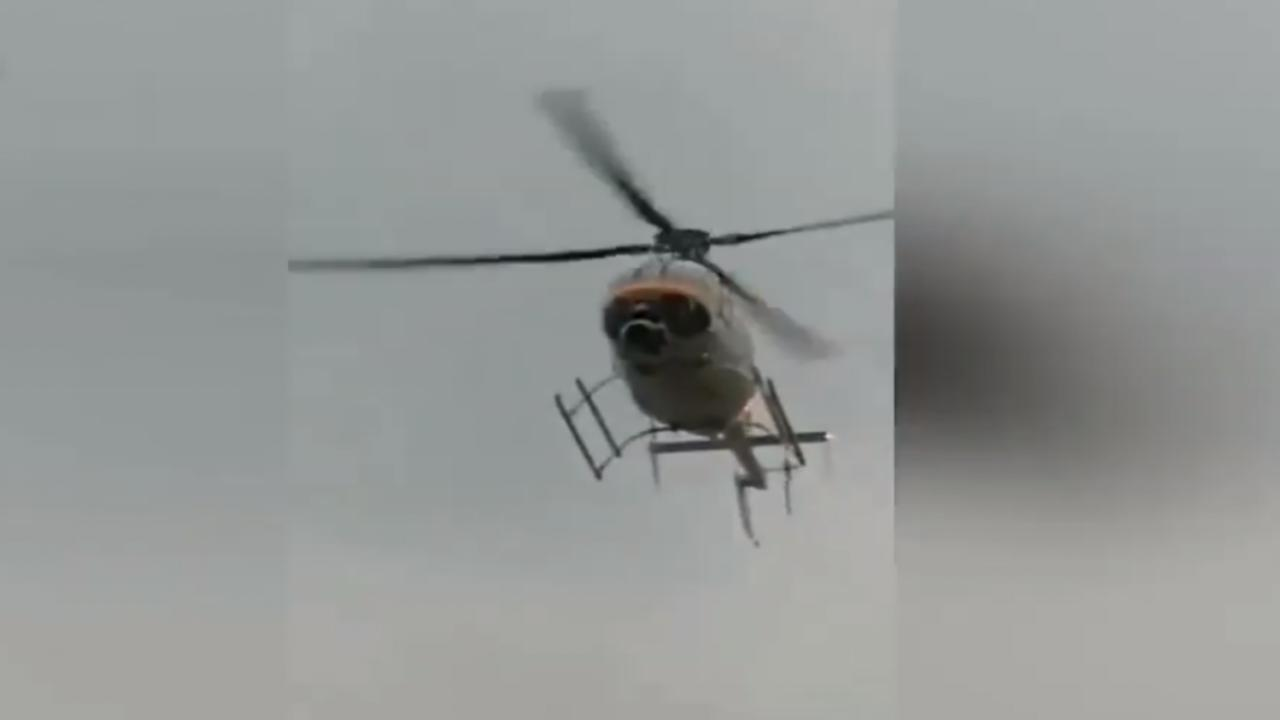Helicopter: (269, 73, 896, 560)
